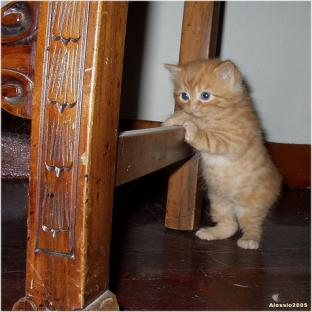Animal: (162, 59, 281, 248)
